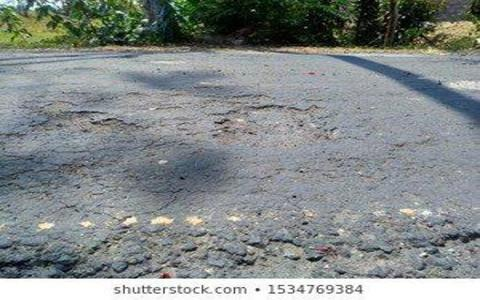patchy roads: (164, 70, 350, 172), (1, 71, 149, 197)
